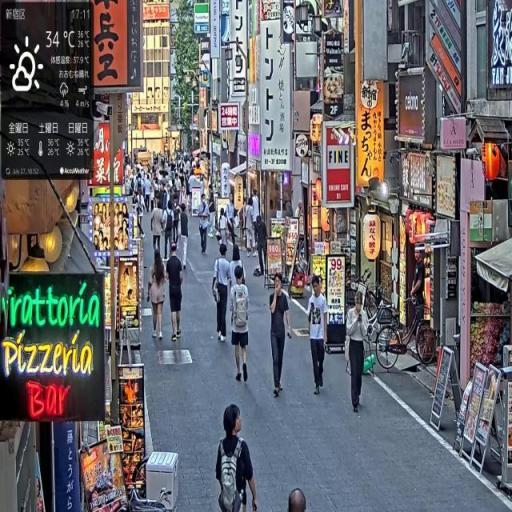person: (216, 401, 259, 512), (344, 290, 369, 418), (269, 272, 293, 403), (307, 275, 330, 400), (231, 264, 252, 385), (166, 241, 186, 341), (213, 245, 234, 340), (149, 250, 168, 339), (255, 212, 270, 281), (151, 200, 165, 259), (198, 195, 211, 258)
